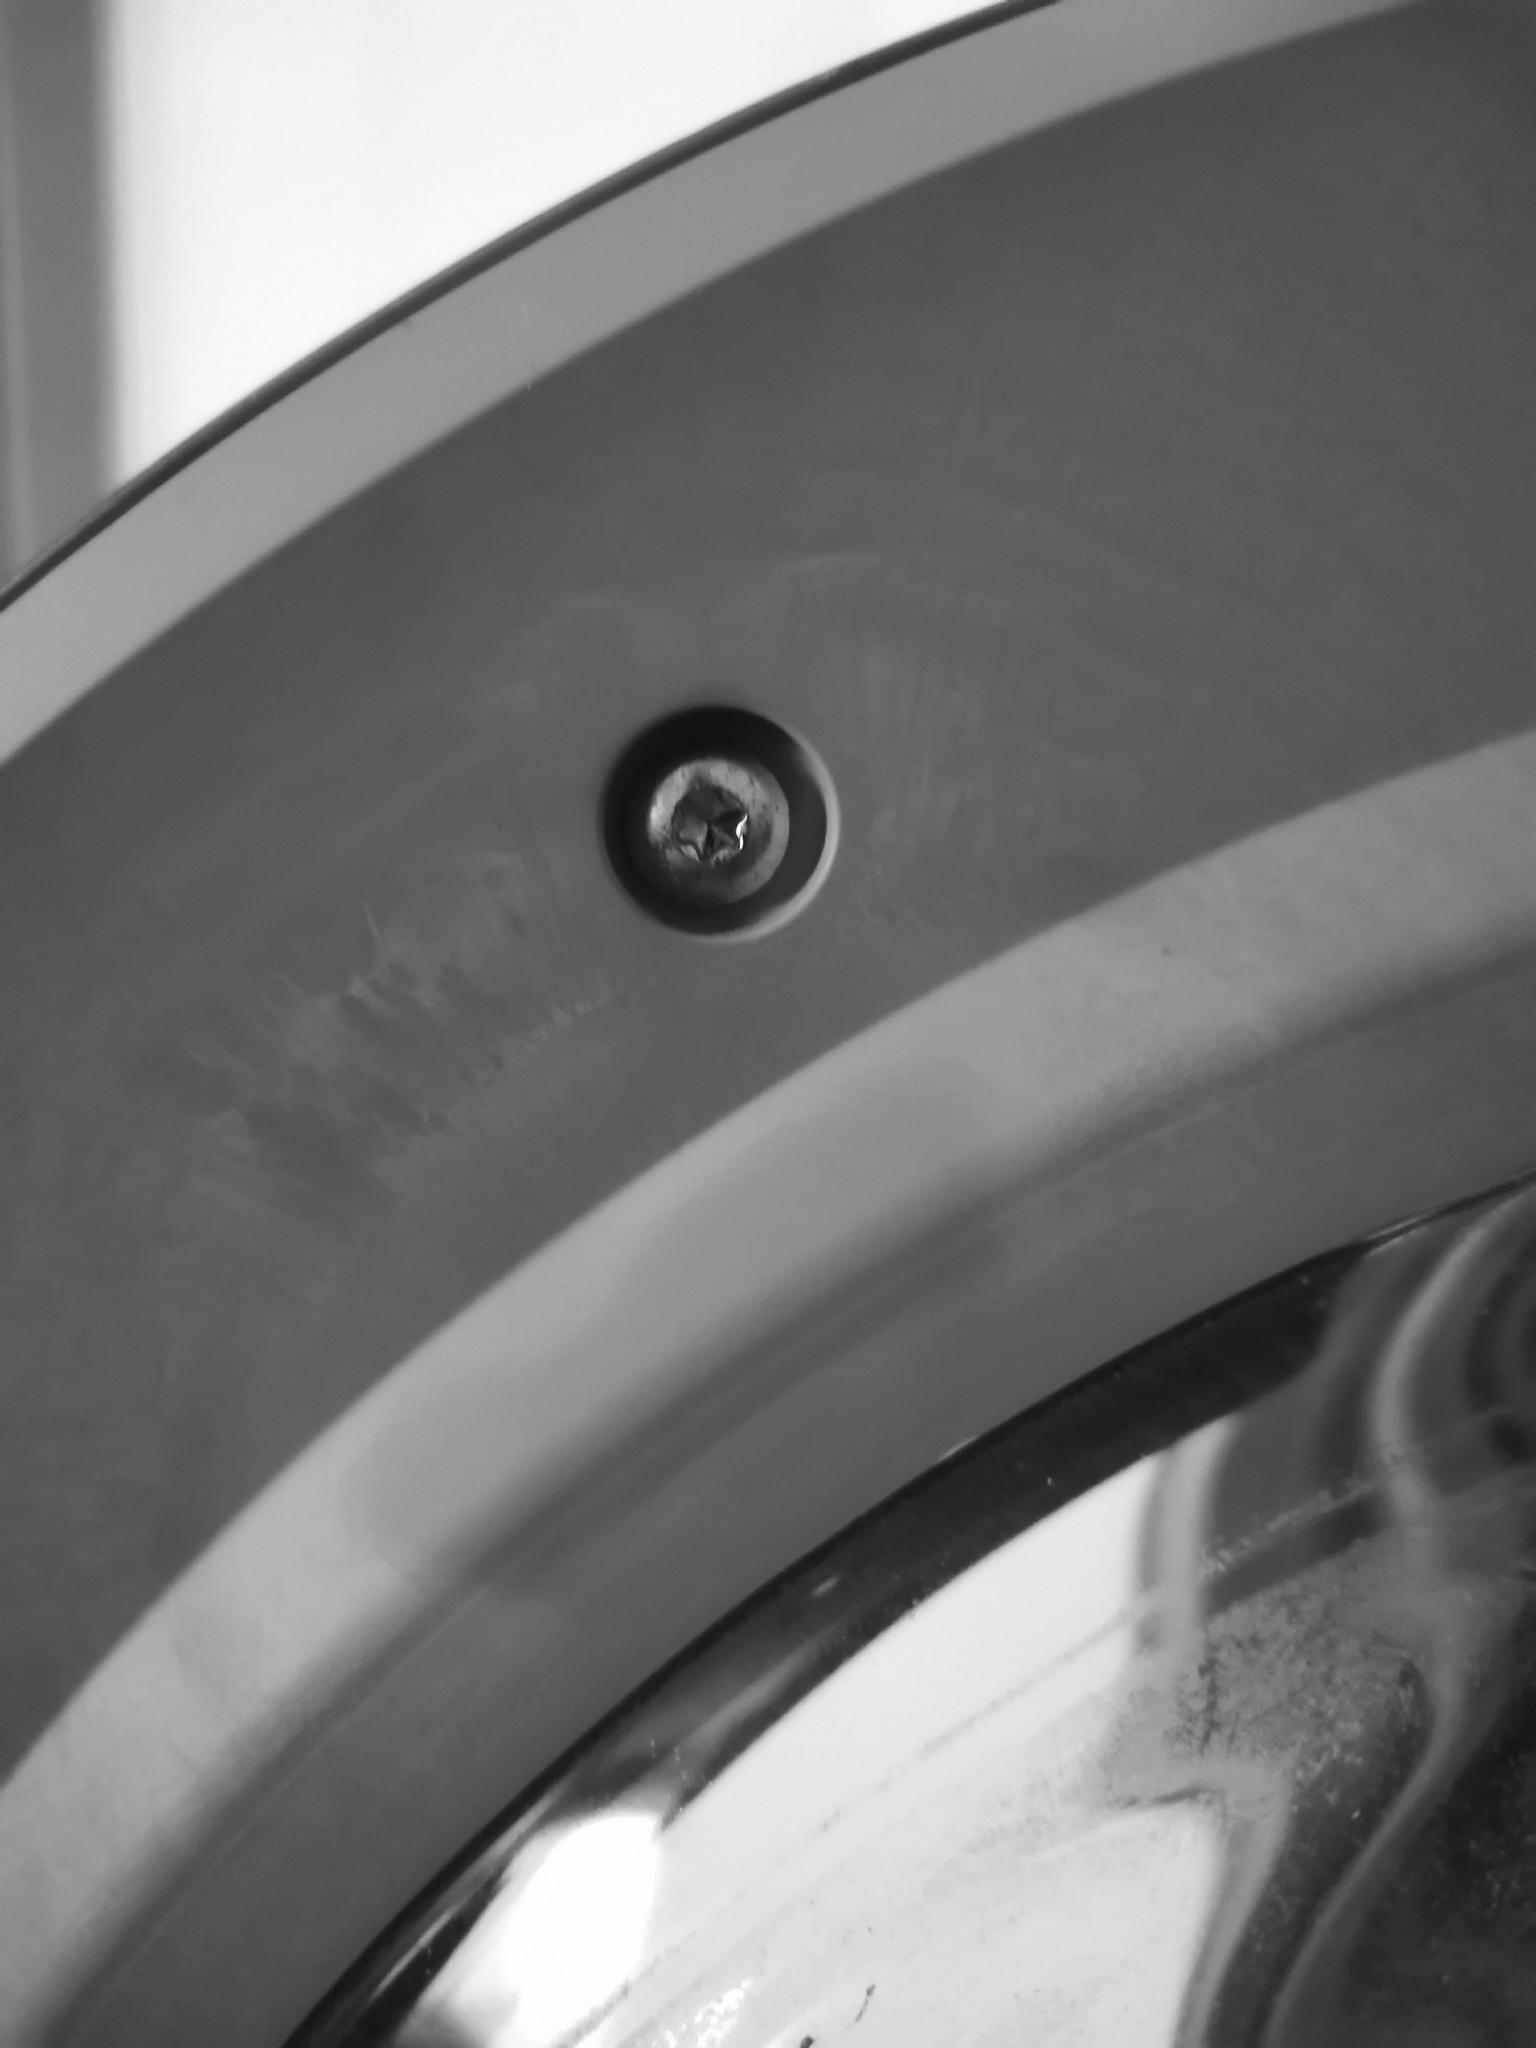screw: (610, 742, 808, 918)
